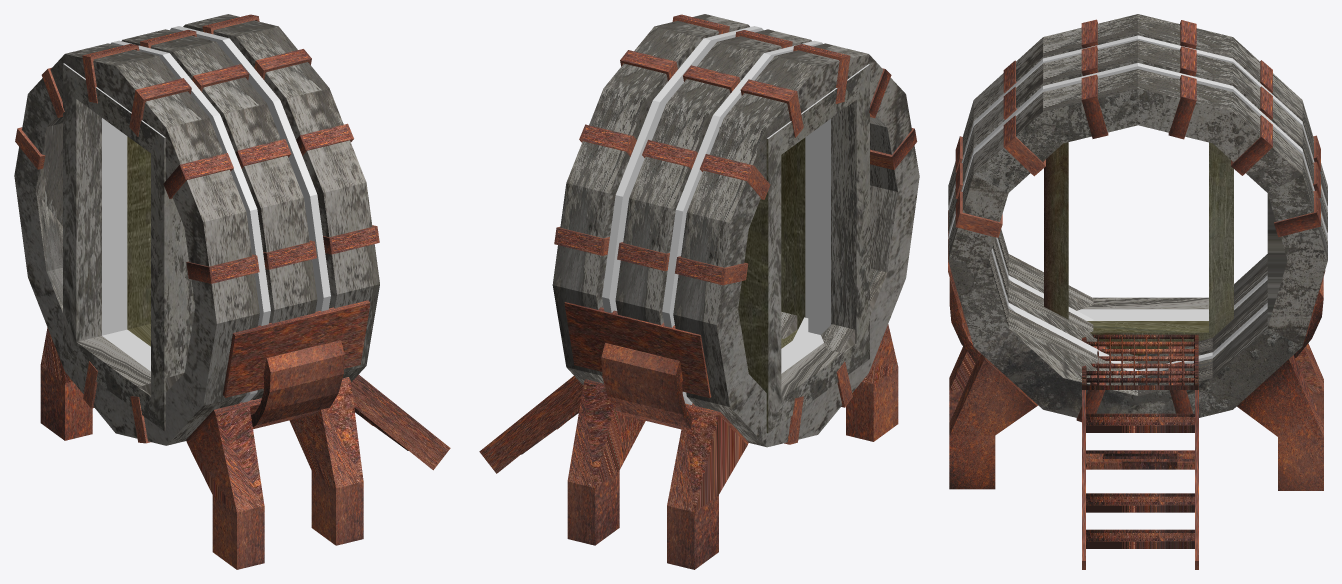
The model's file is TELEPORT_ONLY.fbx.
The picture shows the model from 3 angles, left to right: view 1: azimuth 30°, elevation 25°; view 2: azimuth 150°, elevation 25°; view 3: azimuth 270°, elevation 25°; orthographic projection. The views are drawn at different scales.
Visible parts, largest first — view 1: Cube, Cylinder.005, Cube.006, Cylinder.002, Cylinder.001, Cube.004, Cylinder.003, Cylinder.007, Cylinder.008, Cube.002, Cube.030, Cube.028 (+10 smaller); view 2: Cylinder.005, Cube, Cube.002, Cylinder.002, Cylinder.001, Cube.001, Cylinder.004, Cylinder.007, Cube.006, Cylinder.008, Cube.030, Cube.026 (+10 smaller); view 3: Cylinder.002, Cube, Cylinder.001, Cylinder.005, Cube.006, Cube.002, Cube.030, Cylinder.007, Cylinder.008, Plane.001, Plane.002, Plane.003 (+11 smaller).
Part boxes in pixels (bbox=[...]): Cube: bbox=[63, 63, 195, 431]; Cylinder.005: bbox=[14, 43, 259, 445]; Cube.006: bbox=[186, 377, 363, 569]; Cylinder.002: bbox=[183, 14, 379, 382]; Cylinder.001: bbox=[121, 29, 317, 399]; Cube.004: bbox=[223, 300, 370, 397]; Cylinder.003: bbox=[251, 340, 344, 429]; Cylinder.007: bbox=[170, 26, 330, 311]; Cylinder.008: bbox=[110, 40, 270, 402]; Cube.002: bbox=[40, 327, 92, 440]; Cube.030: bbox=[351, 374, 450, 470]; Cube.028: bbox=[186, 254, 259, 283]; Cylinder.005: bbox=[673, 43, 919, 447]; Cube: bbox=[709, 64, 869, 433]; Cube.002: bbox=[567, 379, 748, 569]; Cylinder.002: bbox=[552, 14, 749, 384]; Cylinder.001: bbox=[615, 29, 811, 338]; Cube.001: bbox=[564, 302, 711, 397]; Cylinder.004: bbox=[601, 343, 692, 429]; Cylinder.007: bbox=[602, 26, 763, 312]; Cube.006: bbox=[846, 324, 898, 441]; Cylinder.008: bbox=[662, 40, 822, 404]; Cube.030: bbox=[479, 376, 583, 473]; Cube.026: bbox=[675, 256, 748, 285]; Cylinder.002: bbox=[948, 69, 1327, 417]; Cube: bbox=[1044, 142, 1233, 355]; Cylinder.001: bbox=[948, 40, 1327, 370]; Cylinder.005: bbox=[948, 14, 1327, 310]; Cube.006: bbox=[949, 346, 1037, 489]; Cube.002: bbox=[1237, 343, 1323, 490]; Cube.030: bbox=[1082, 334, 1198, 569]; Cylinder.007: bbox=[948, 63, 1327, 376]; Cylinder.008: bbox=[948, 35, 1327, 320]; Plane.001: bbox=[1086, 413, 1194, 432]; Plane.002: bbox=[1086, 493, 1194, 512]; Plane.003: bbox=[1086, 529, 1194, 548].
Size of the model in its own units: 8682 by 12184 by 9889.
4 materials, 3 textured.
